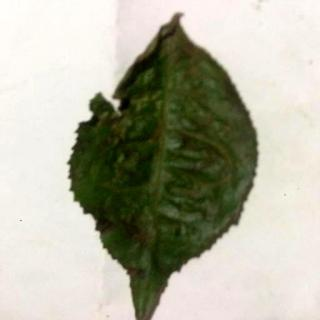Red Leaf Spot: (68, 16, 260, 320)
